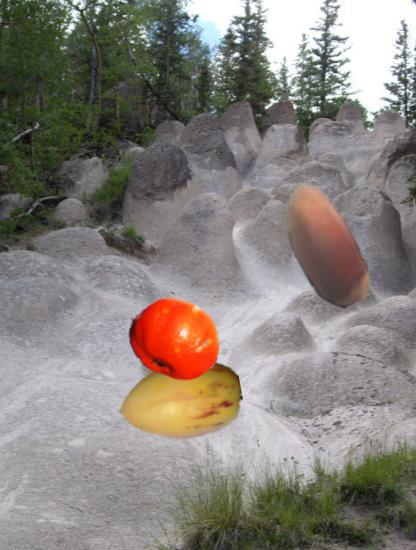Clementine: (125, 289, 223, 387)
Hazelnut: (256, 177, 391, 312)
Pepino: (118, 338, 242, 462)
